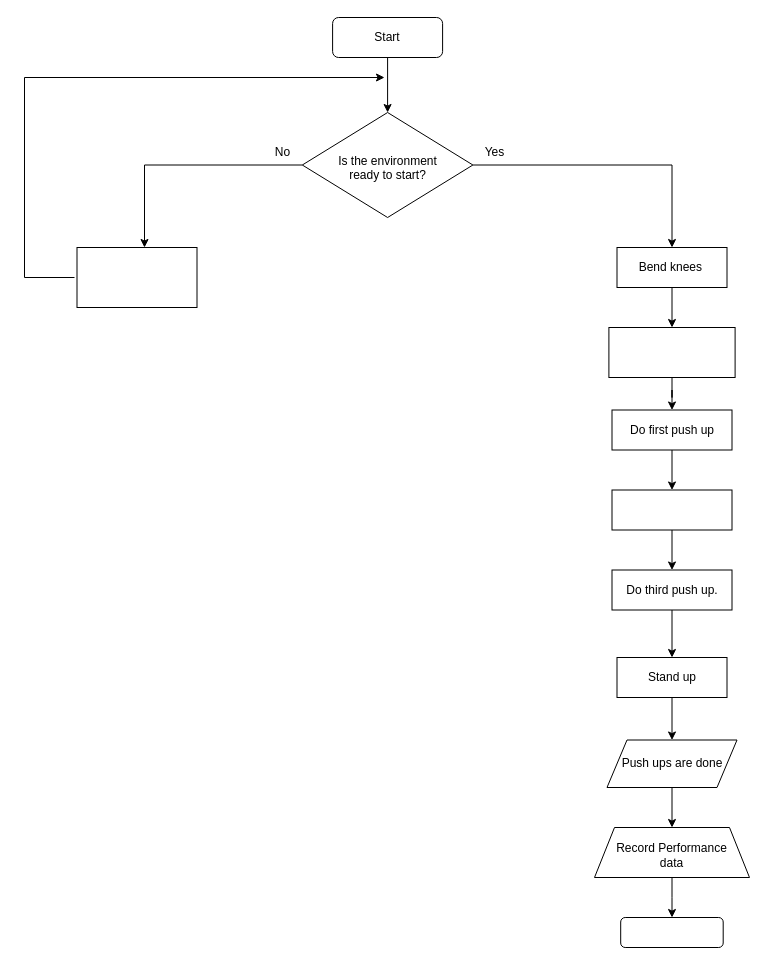
Some shapes in this 767 by 965 pixel diagram are drawn without their labels. The shapes that lost their labels are listed below. From the top down, each one's box as (x1, y1, x2, y2) in pixels, then its label:
(76, 246, 197, 308): Set up the environment for readiness.
(608, 326, 735, 378): Assume a plank position.
(611, 489, 732, 530): Do second push up.
(620, 916, 723, 948): End
